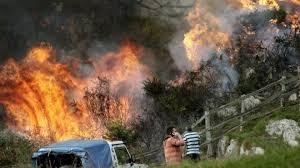fire: (0, 36, 141, 146), (172, 1, 238, 82)
